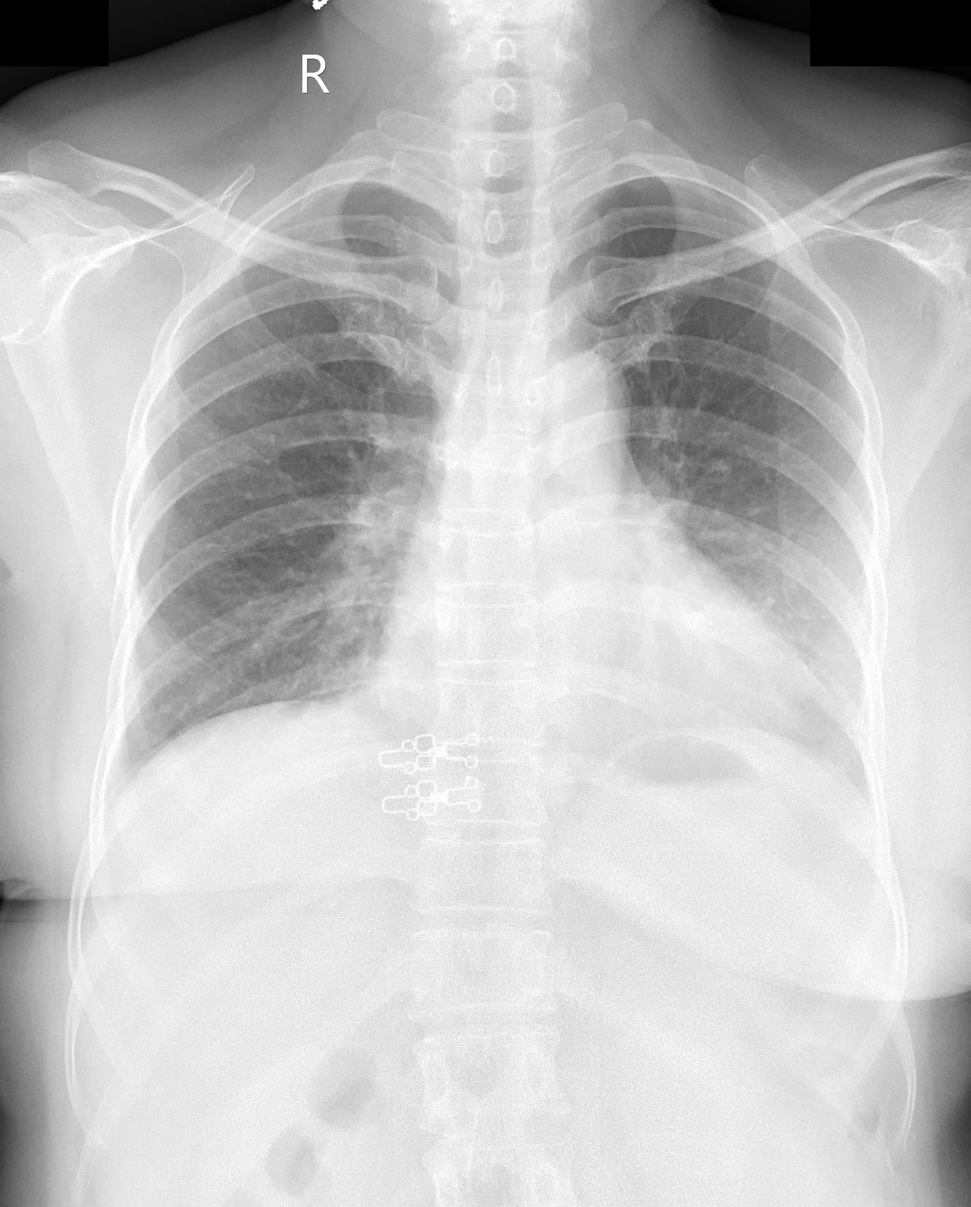Aortic enlargement: (511, 350, 632, 461)
Cardiomegaly: (363, 601, 817, 753)
